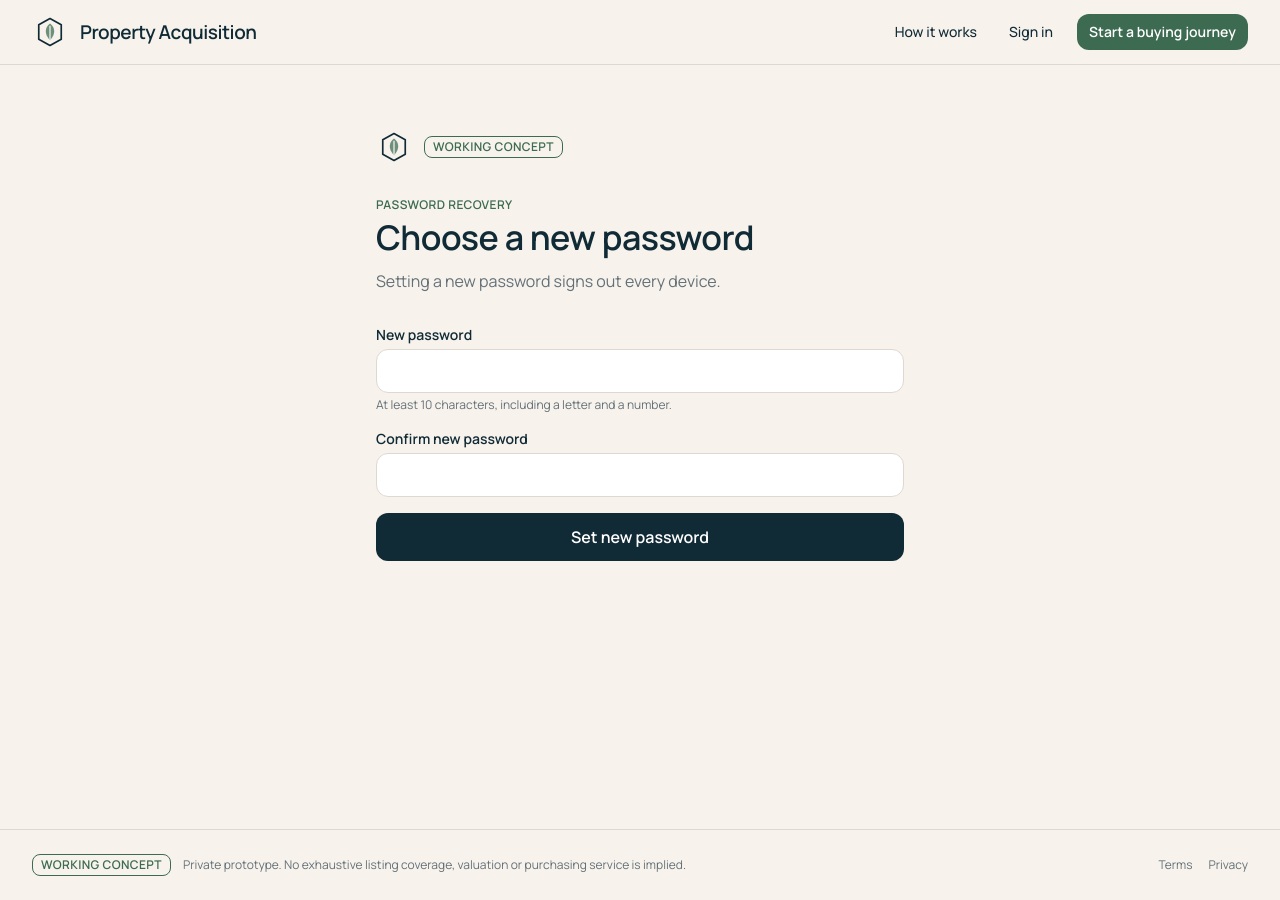
Test: account screens › reset password catches mismatched confirmations before calling the API
Type "Prototype2026pass" into the password field with test id "reset-password" at (640, 371), box [376, 349, 904, 393]
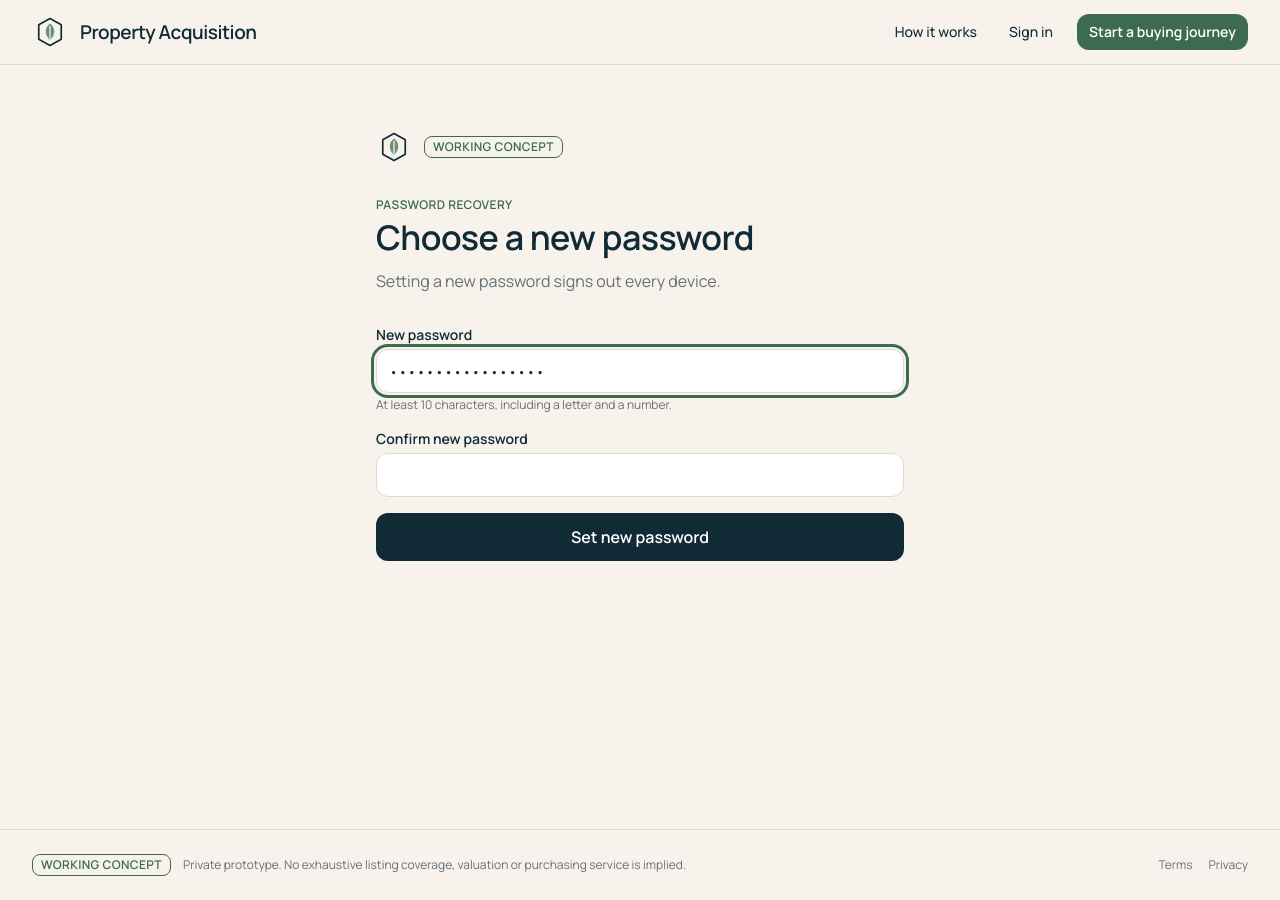
Type "Prototype2026pas" into the password field with test id "reset-password-confirm" at (640, 475), box [376, 453, 904, 497]
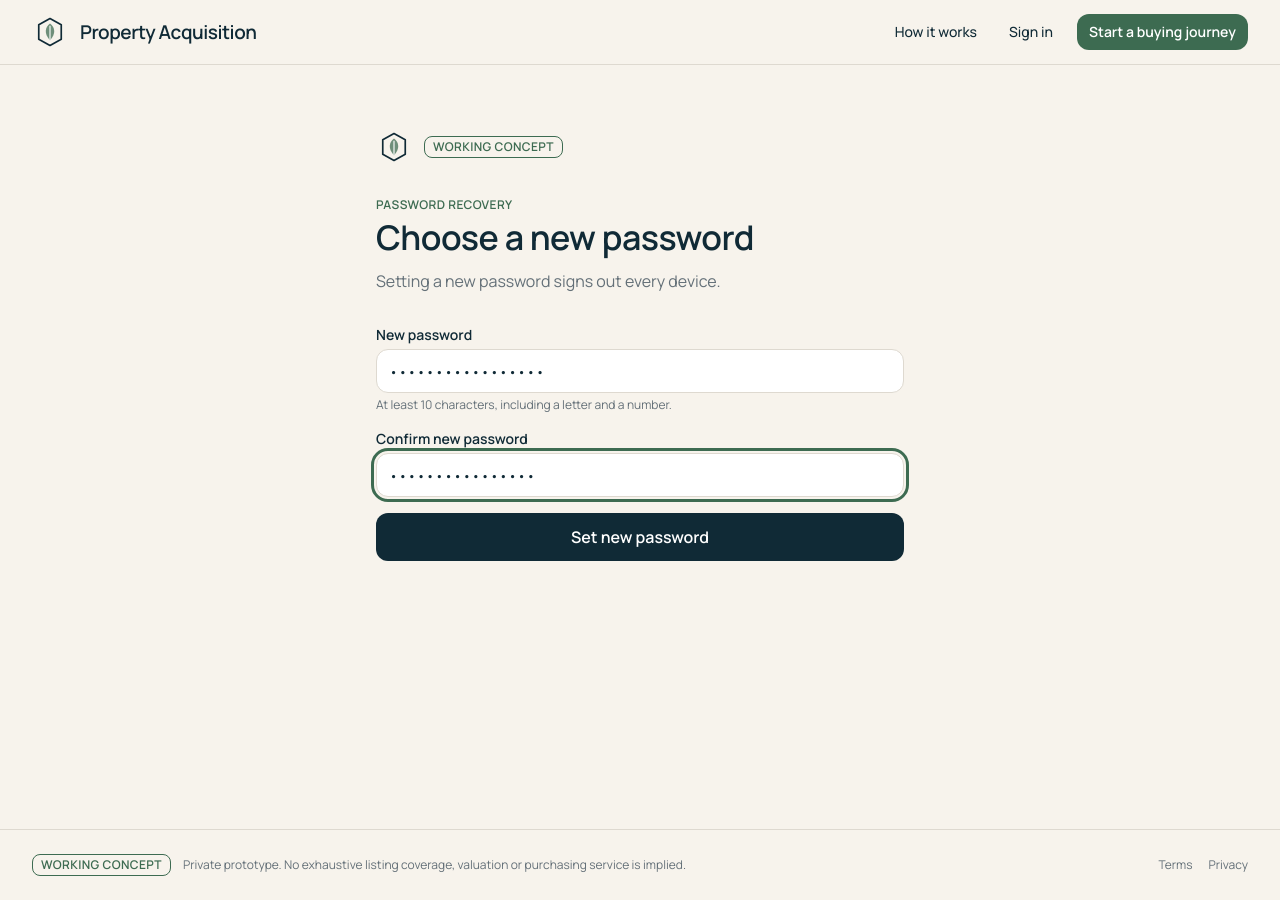
Click the button with test id "reset-password-submit" at (640, 537), box [376, 513, 904, 561]
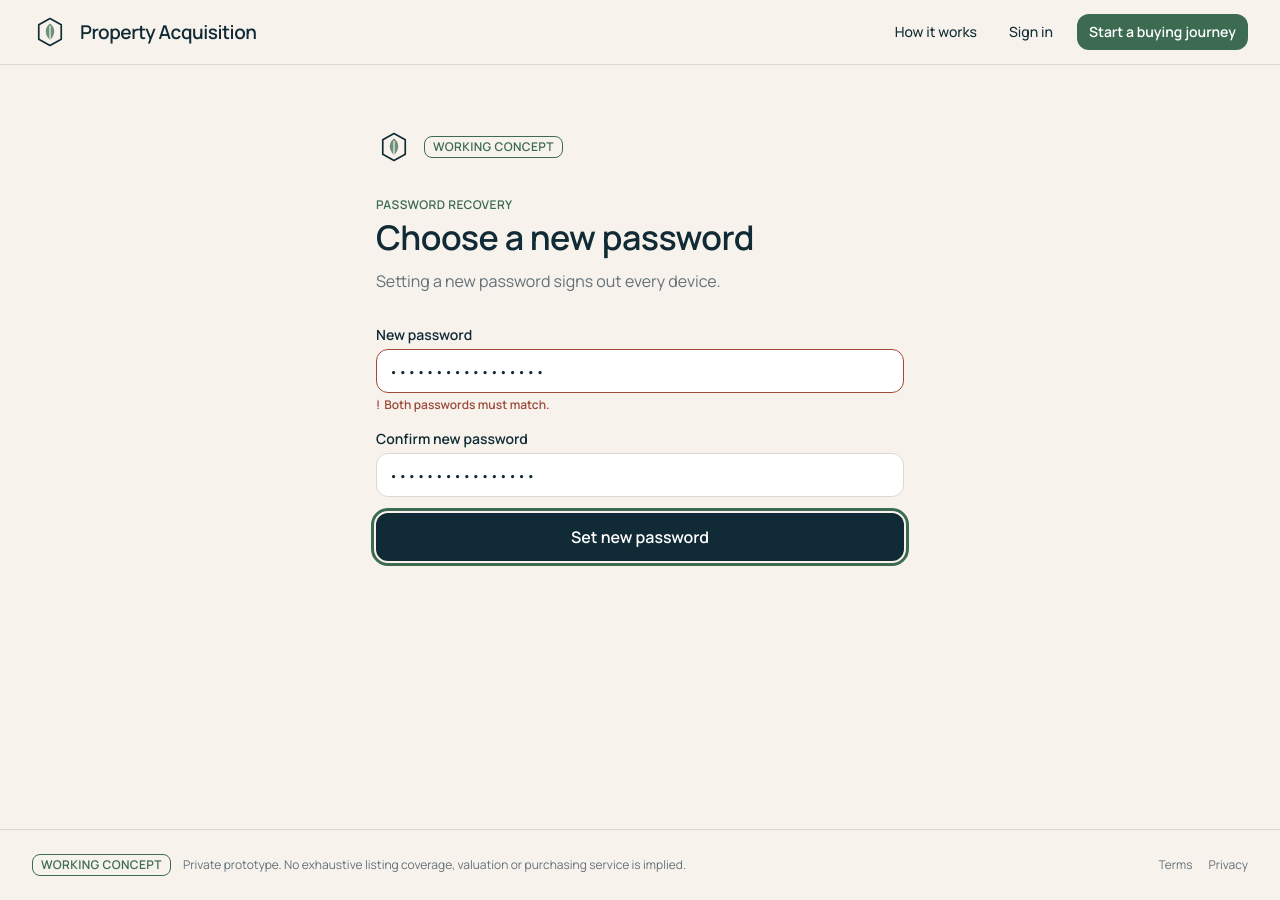
expect the element with test id "reset-password-error" shows "must match": met, box [384, 396, 549, 413]
